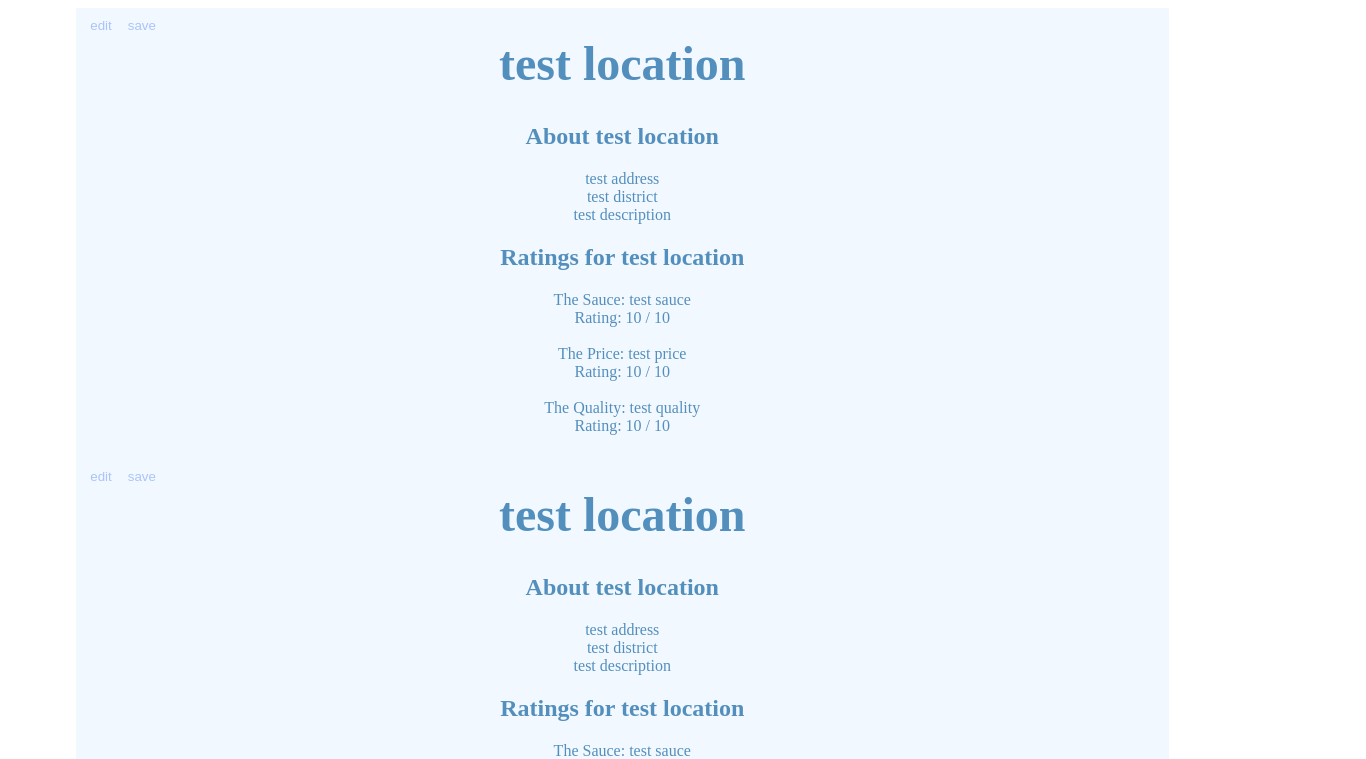
Test: <SingleReview /> › Wwhile editing › Contains editable text boxes
Click the 2nd button with class "single-review__controls-edit".
click(101, 477)  # box [82,466,120,487]
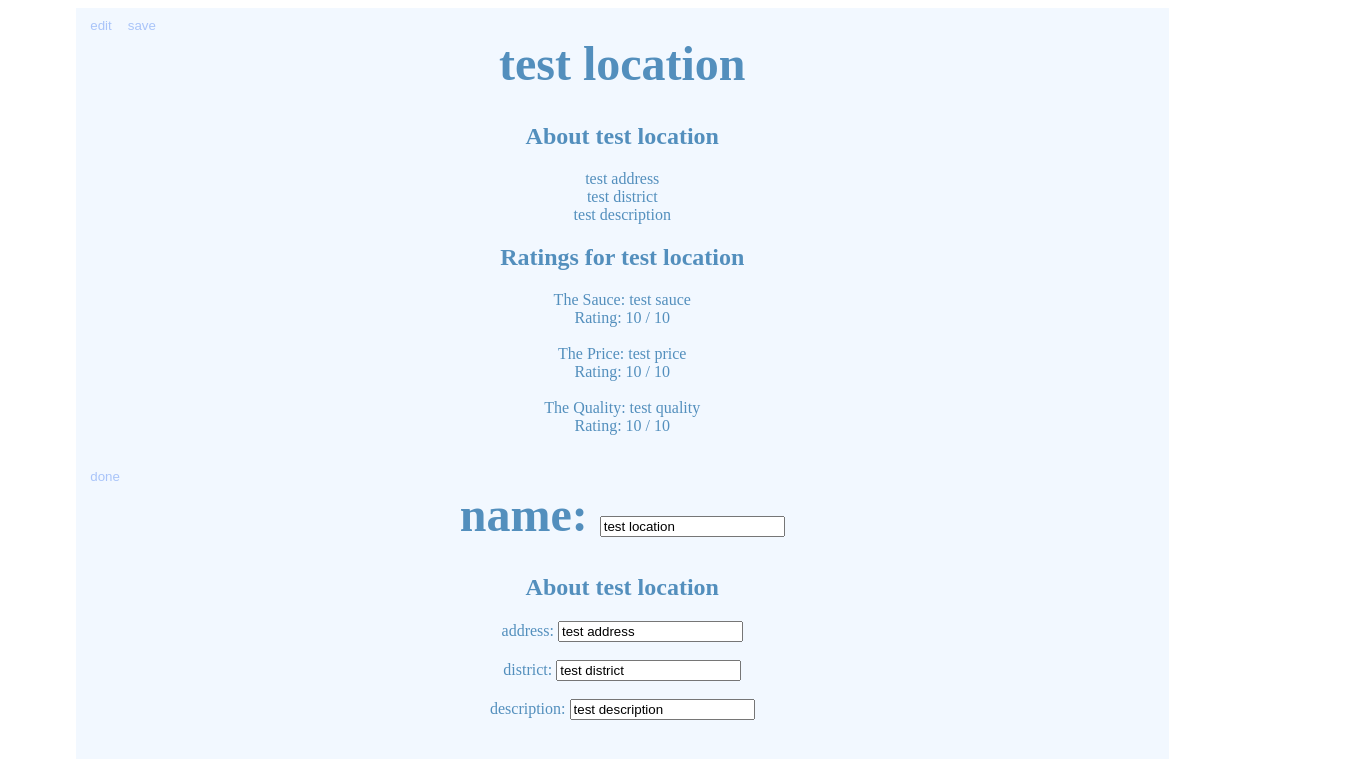
Expected: the number of elements with class "single-review__editable-field" is 4, [460,488,785,541]
